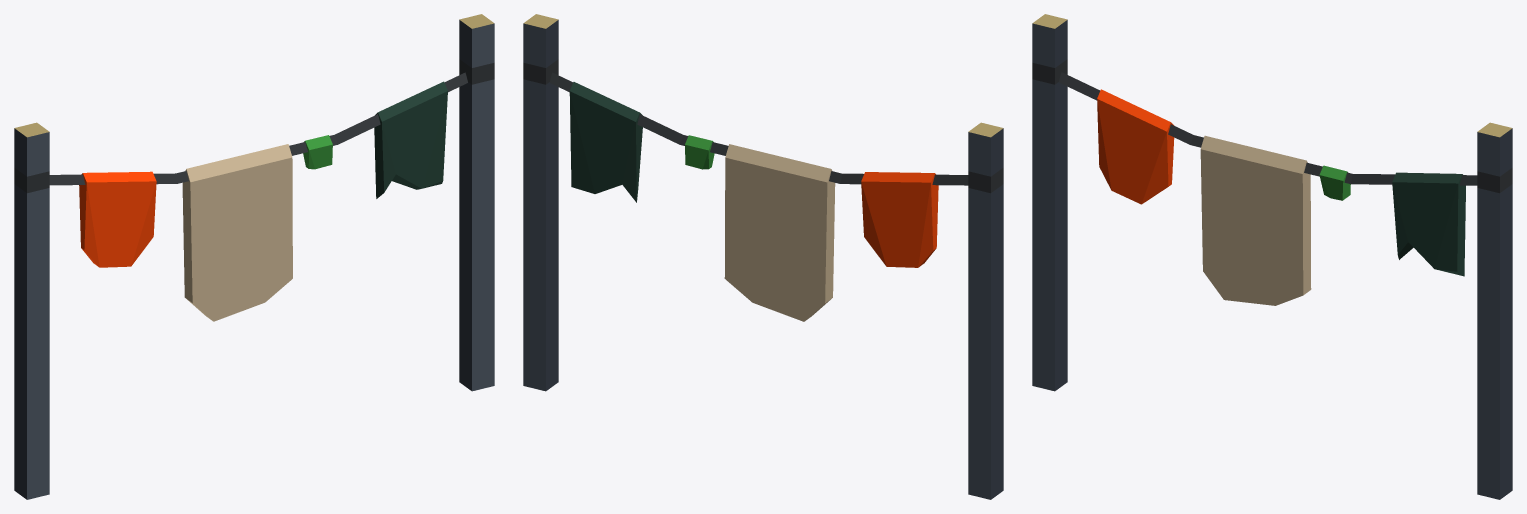
The model's file is TB_D_Prop_Loundry_A.FBX.
3 views of the same model, side by side, from view 1: azimuth 30°, elevation 25°; view 2: azimuth 150°, elevation 25°; view 3: azimuth 330°, elevation 25° (orthographic).
Parts seen in each view (by area): view 1: TB_D_Prop_Loundry_A; view 2: TB_D_Prop_Loundry_A; view 3: TB_D_Prop_Loundry_A.
Boxes of the visible parts, x1=… form: TB_D_Prop_Loundry_A: x1=14, y1=14, x2=494, y2=499; TB_D_Prop_Loundry_A: x1=523, y1=14, x2=1003, y2=499; TB_D_Prop_Loundry_A: x1=1032, y1=14, x2=1512, y2=499.
Bounding box in the file's own units: 3.53 × 2.62 × 0.1678.
